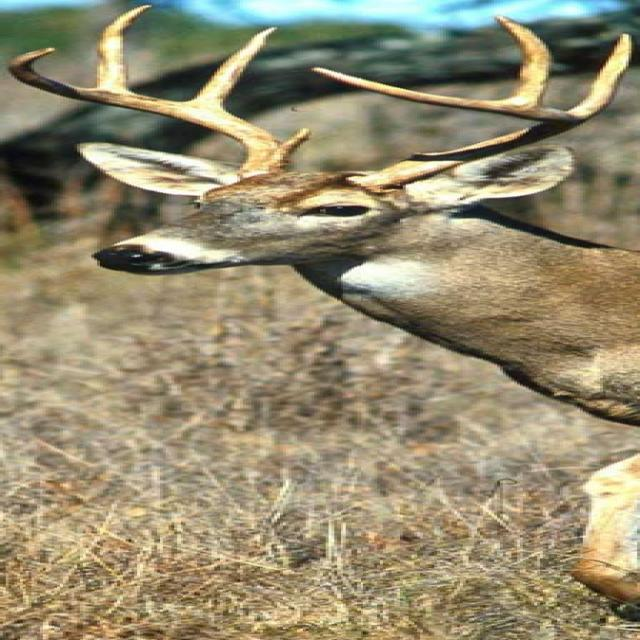L-F: (309, 67, 583, 194)
L-G1: (568, 33, 633, 121)
L-G2: (493, 14, 554, 106)
R-G1: (278, 127, 313, 154)
R-G2: (186, 26, 279, 110)
R-G3: (96, 4, 154, 92)
